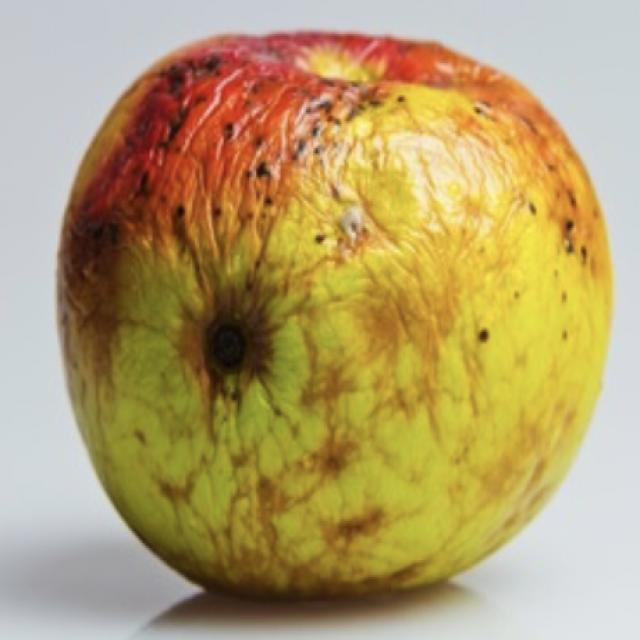Rotten: (61, 36, 602, 586)
